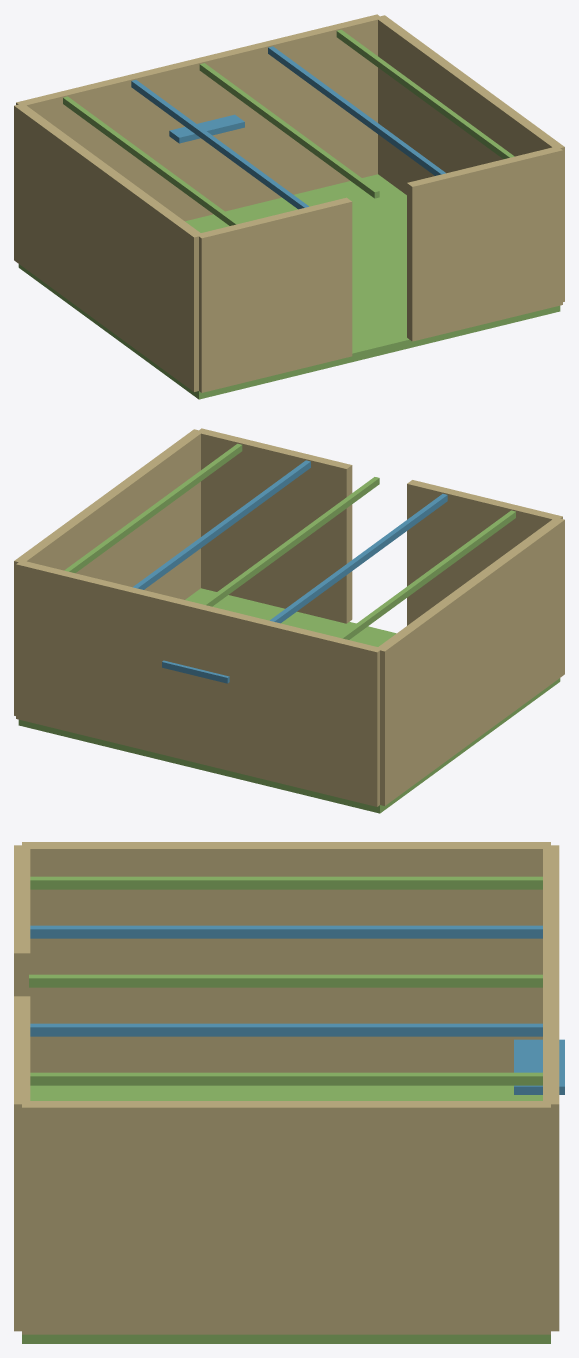
The model's file is wind_station_a.glb.
3 renders of one model, top to bottom at view 1: azimuth 30°, elevation 25°; view 2: azimuth 150°, elevation 25°; view 3: azimuth 270°, elevation 25°, orthographic. The views are drawn at different scales.
Parts seen in each view (by area): view 1: wall_north, wall_west, wall_south_right, wall_south_left, wall_east, floor, ceiling_beam_0, ceiling_beam_2, ceiling_beam_-1, ceiling_beam_1, ceiling_beam_-2, purpose_windmill_station; view 2: wall_north, wall_west, wall_south_right, wall_east, wall_south_left, floor, ceiling_beam_0, ceiling_beam_2, ceiling_beam_-1, ceiling_beam_1, ceiling_beam_-2, purpose_windmill_station; view 3: wall_east, wall_west, floor, ceiling_beam_0, ceiling_beam_-2, ceiling_beam_-1, ceiling_beam_1, ceiling_beam_2, wall_north, wall_south_right, wall_south_left, purpose_windmill_station.
Part boxes in pixels (bbox=[...]): wall_north: bbox=[16, 14, 382, 221]; wall_west: bbox=[14, 104, 203, 391]; wall_south_right: bbox=[407, 146, 562, 341]; wall_south_left: bbox=[199, 197, 352, 392]; wall_east: bbox=[377, 15, 564, 301]; floor: bbox=[18, 174, 560, 399]; ceiling_beam_0: bbox=[199, 63, 379, 198]; ceiling_beam_2: bbox=[336, 29, 514, 159]; ceiling_beam_-1: bbox=[131, 80, 308, 209]; ceiling_beam_1: bbox=[268, 46, 445, 175]; ceiling_beam_-2: bbox=[63, 96, 240, 225]; purpose_windmill_station: bbox=[169, 114, 244, 143]; wall_north: bbox=[16, 561, 382, 806]; wall_west: bbox=[376, 517, 564, 805]; wall_south_right: bbox=[197, 428, 352, 623]; wall_east: bbox=[14, 429, 203, 715]; wall_south_left: bbox=[407, 480, 562, 625]; floor: bbox=[18, 588, 560, 813]; ceiling_beam_0: bbox=[201, 477, 379, 606]; ceiling_beam_2: bbox=[64, 443, 242, 573]; ceiling_beam_-1: bbox=[270, 494, 447, 623]; ceiling_beam_1: bbox=[133, 460, 310, 589]; ceiling_beam_-2: bbox=[338, 510, 515, 639]; purpose_windmill_station: bbox=[162, 660, 229, 683]; wall_east: bbox=[22, 1101, 550, 1334]; wall_west: bbox=[22, 842, 550, 1072]; floor: bbox=[22, 1085, 550, 1343]; ceiling_beam_0: bbox=[29, 974, 542, 987]; ceiling_beam_-2: bbox=[30, 876, 542, 889]; ceiling_beam_-1: bbox=[30, 925, 542, 938]; ceiling_beam_1: bbox=[30, 1023, 542, 1036]; ceiling_beam_2: bbox=[30, 1072, 542, 1085]; wall_north: bbox=[543, 845, 559, 1331]; wall_south_right: bbox=[14, 996, 30, 1331]; wall_south_left: bbox=[14, 845, 30, 996]; purpose_windmill_station: bbox=[514, 1039, 564, 1094].
Size of what is drawn, in the model's own units: 13.55 by 5.7 by 11.88.
